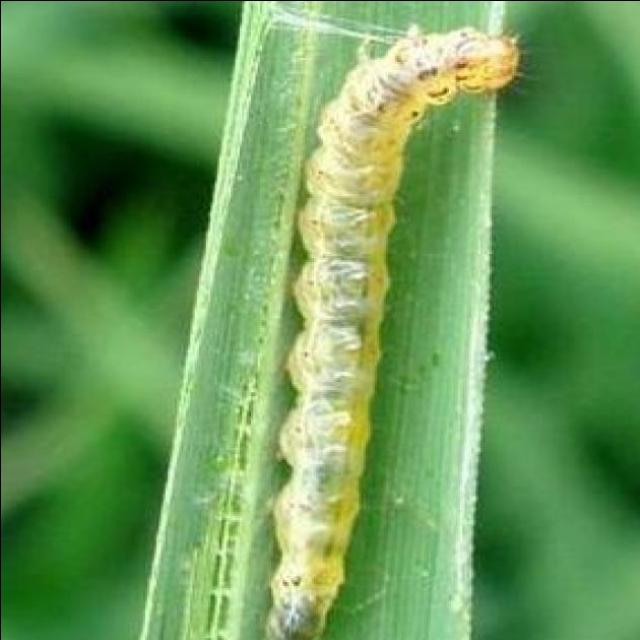leaf folder: (265, 26, 518, 640)
